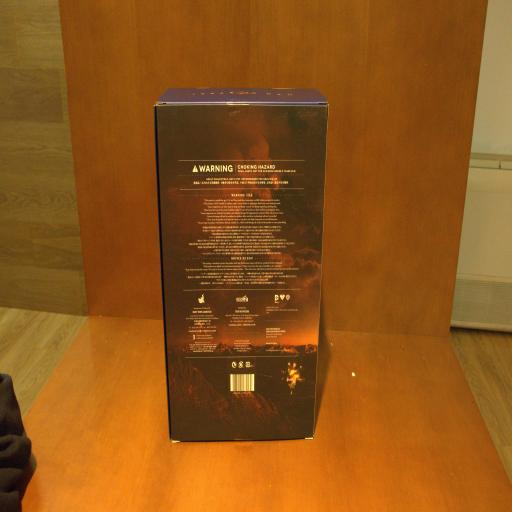superman: (154, 86, 328, 444)
